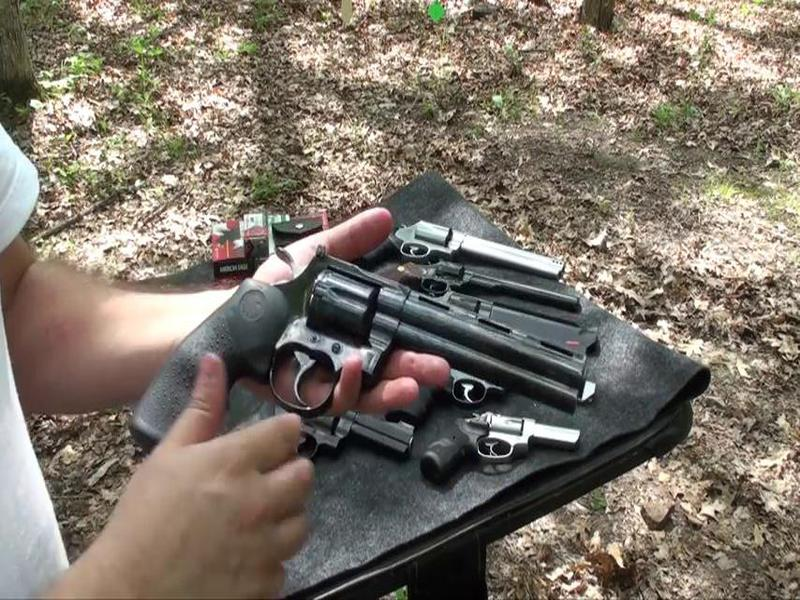Revolver: (137, 248, 601, 493)
